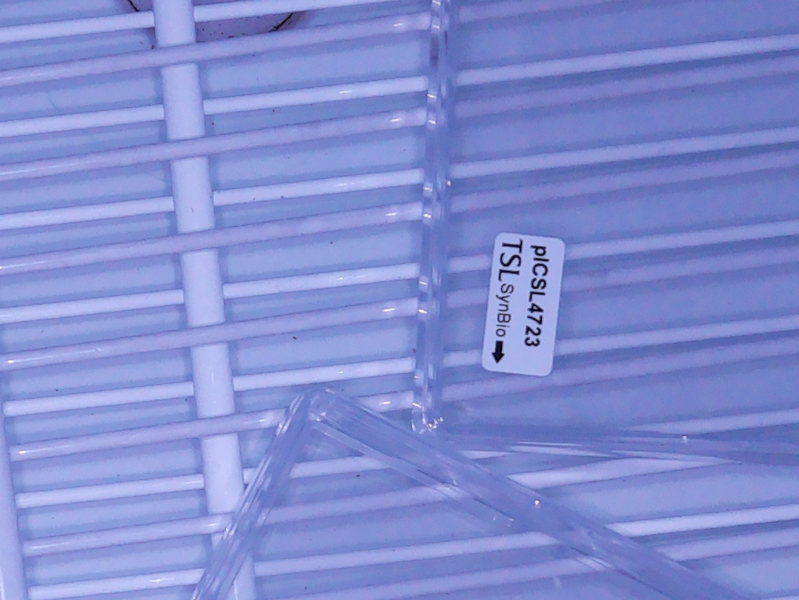plate: (410, 1, 799, 464), (195, 388, 750, 600)
